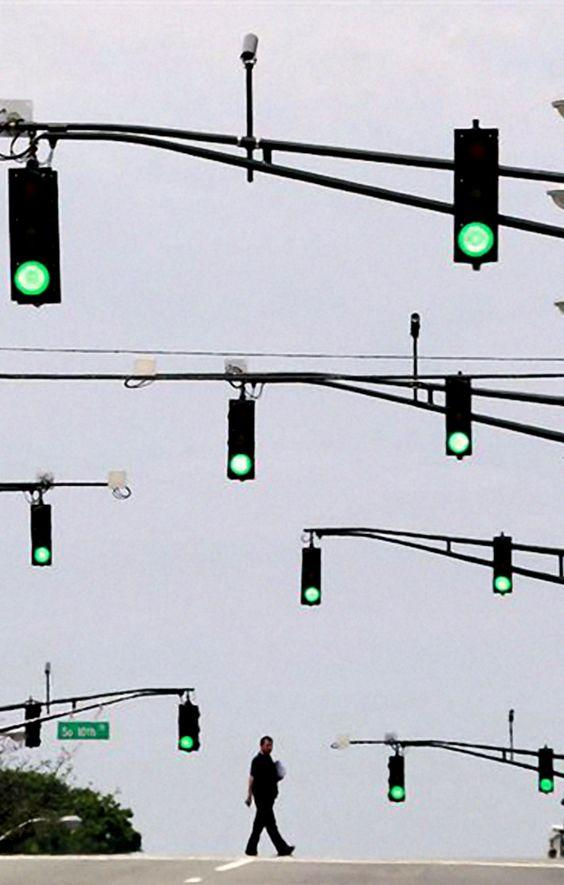Traffic light green: (428, 115, 522, 268)
